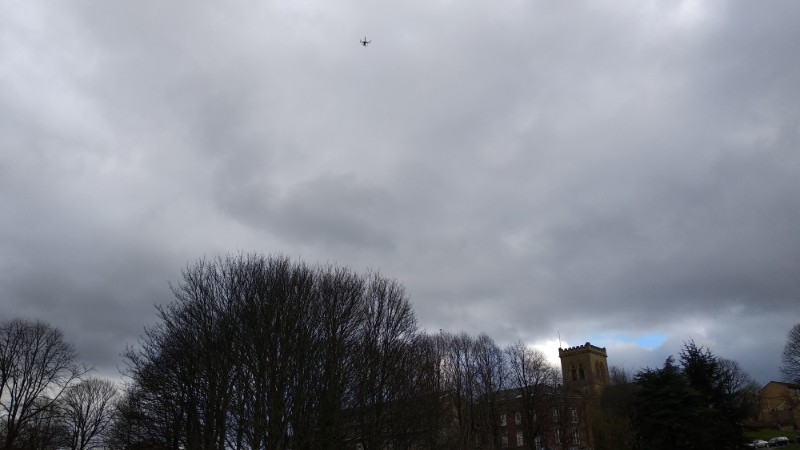drone: (359, 37, 372, 47)
